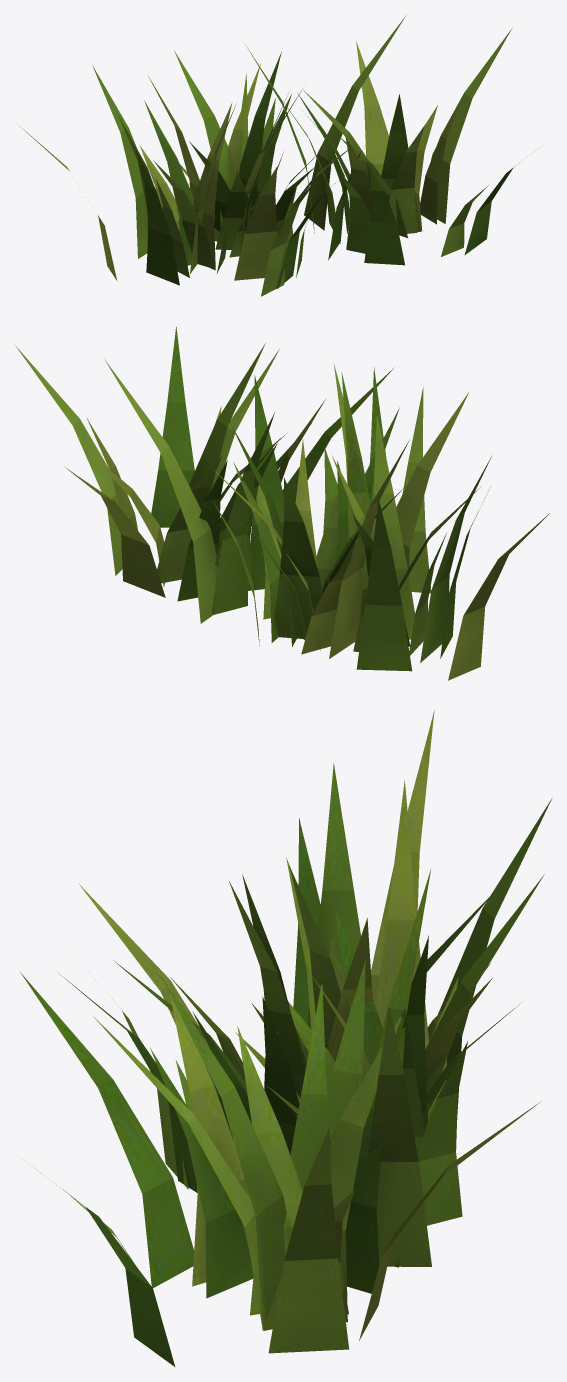
File: grass_short_idle.glb
3 renders of one model, top to bottom at view 1: azimuth 30°, elevation 25°; view 2: azimuth 150°, elevation 25°; view 3: azimuth 270°, elevation 25°, orthographic. The views are drawn at different scales.
Visible parts, largest first — view 1: grass_short; view 2: grass_short; view 3: grass_short.
Boxes of the visible parts, x1,y1,x2,y2 form: grass_short: (19, 16, 513, 296); grass_short: (14, 326, 549, 680); grass_short: (20, 711, 551, 1366).
Size of the model in its own units: 0.5184 by 0.1991 by 0.2818.
Materials: 1 (1 with a texture image).
